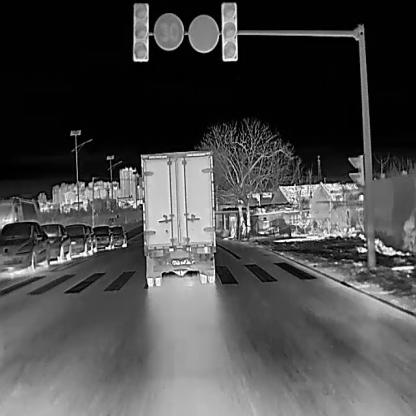bus: (0, 195, 46, 238)
car: (0, 219, 50, 270), (38, 222, 72, 262), (63, 223, 92, 256), (91, 225, 114, 250), (108, 224, 126, 248)
truck: (139, 148, 216, 286)
